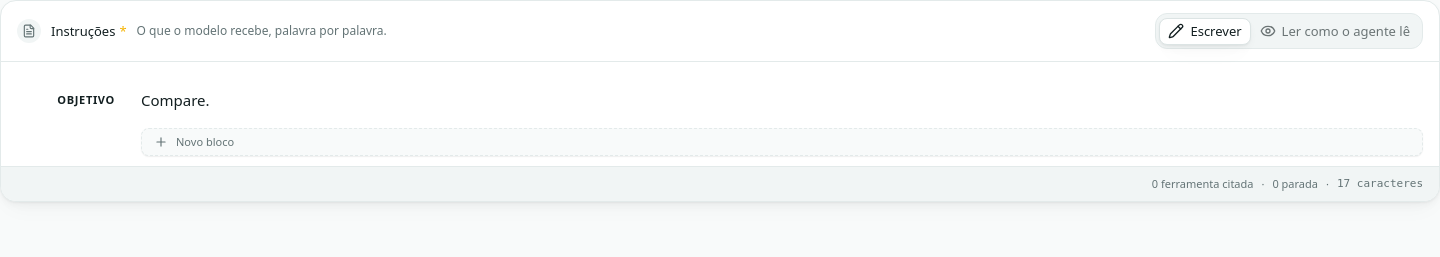
writing in a block that was just added › keeps what is typed, space by space
Click the field named "Objetivo" at (175, 100), box [141,90,210,110]
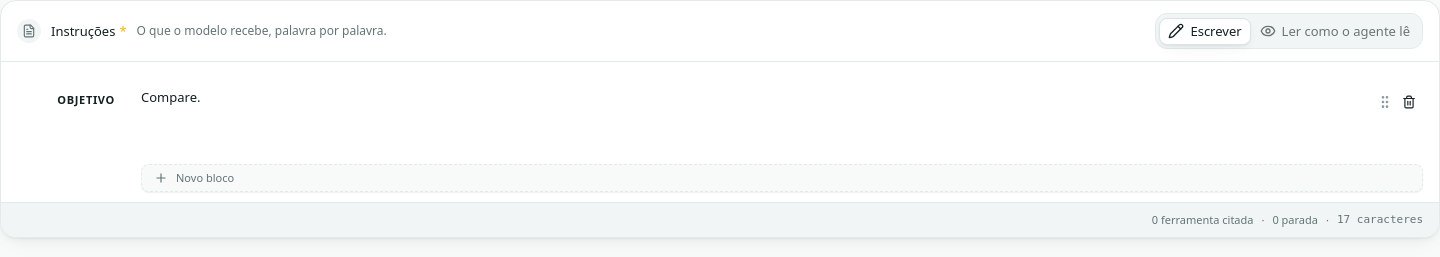
Type " Depois responda." into the text box named "Objetivo" at (749, 120), box [141,88,1357,152]
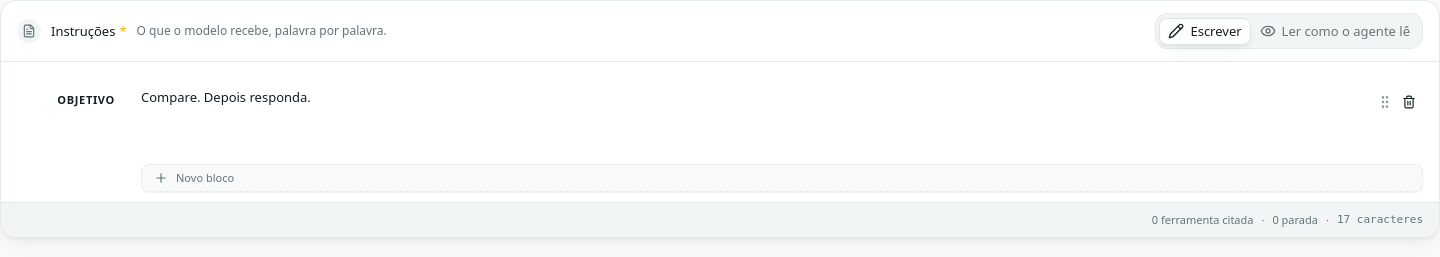
Now the text box named "Objetivo" holds "Compare. Depois responda.", box [141,88,1357,152]
